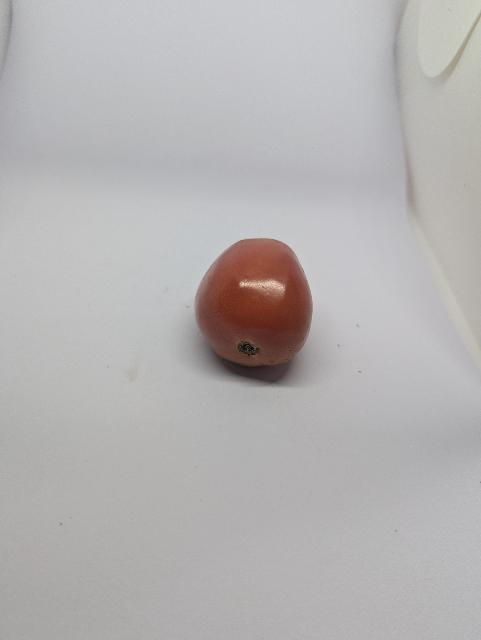red: (180, 225, 340, 394)
